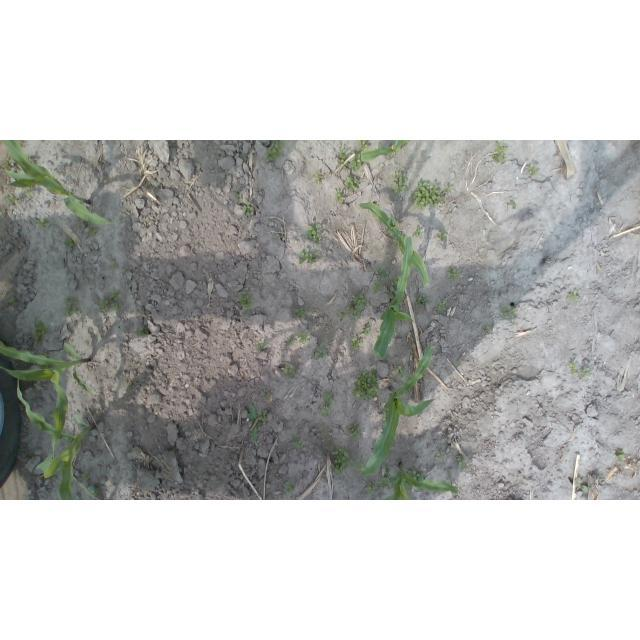Maize: (2, 343, 94, 461), (358, 344, 436, 477), (15, 377, 99, 499), (3, 144, 120, 229), (359, 201, 432, 288), (371, 237, 419, 361), (379, 470, 462, 499), (360, 140, 413, 162)
Weeds: (366, 467, 425, 496), (411, 179, 451, 209), (243, 402, 265, 444), (335, 173, 358, 204), (349, 324, 371, 355), (97, 287, 123, 312), (337, 148, 364, 172), (331, 448, 354, 475), (355, 373, 378, 400), (347, 296, 367, 321), (373, 267, 390, 294), (491, 141, 509, 166), (497, 302, 517, 323), (320, 391, 335, 419), (391, 169, 407, 195), (264, 141, 282, 163), (285, 332, 311, 347), (236, 288, 252, 312), (32, 318, 47, 343), (64, 296, 81, 317), (570, 361, 591, 378), (306, 224, 325, 241), (296, 248, 316, 264), (240, 196, 256, 216), (572, 476, 590, 493), (312, 345, 326, 362), (350, 423, 363, 441), (413, 292, 427, 308), (280, 363, 296, 377), (526, 163, 540, 177), (450, 265, 463, 280), (292, 437, 305, 450), (256, 340, 269, 353), (284, 482, 296, 494), (314, 172, 325, 185), (568, 292, 581, 303), (435, 300, 446, 312), (296, 308, 307, 320), (506, 199, 517, 210)
